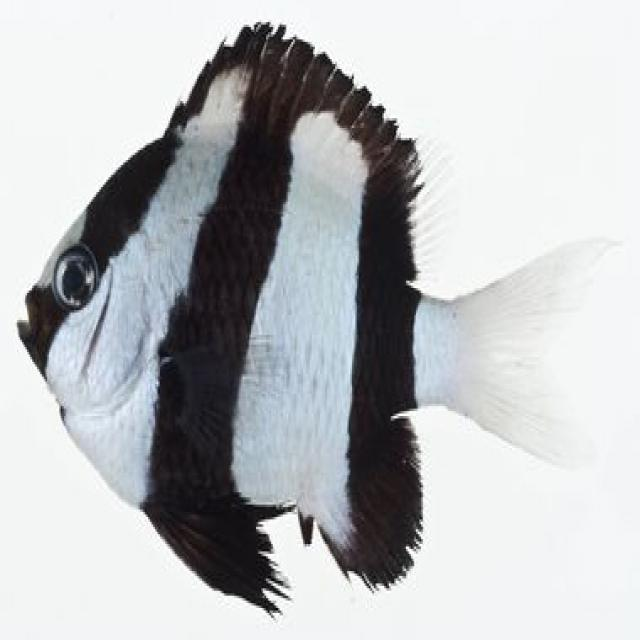Three_striped DasmselFish: (17, 17, 602, 613)
